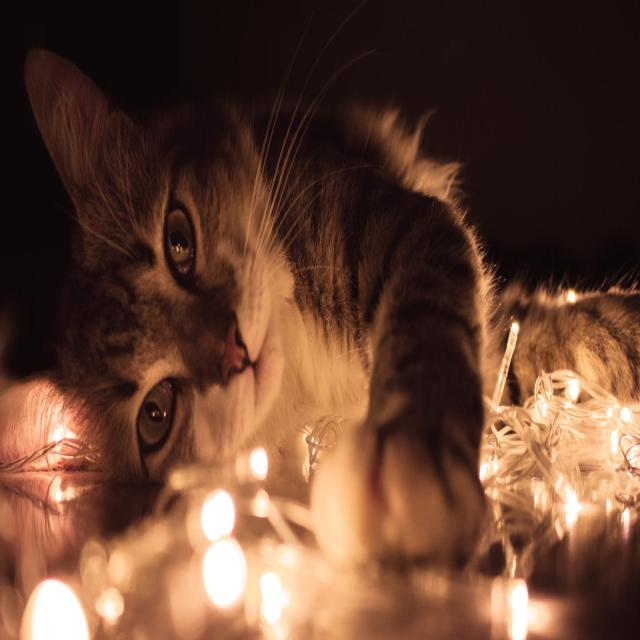Cat: (21, 21, 638, 572)
